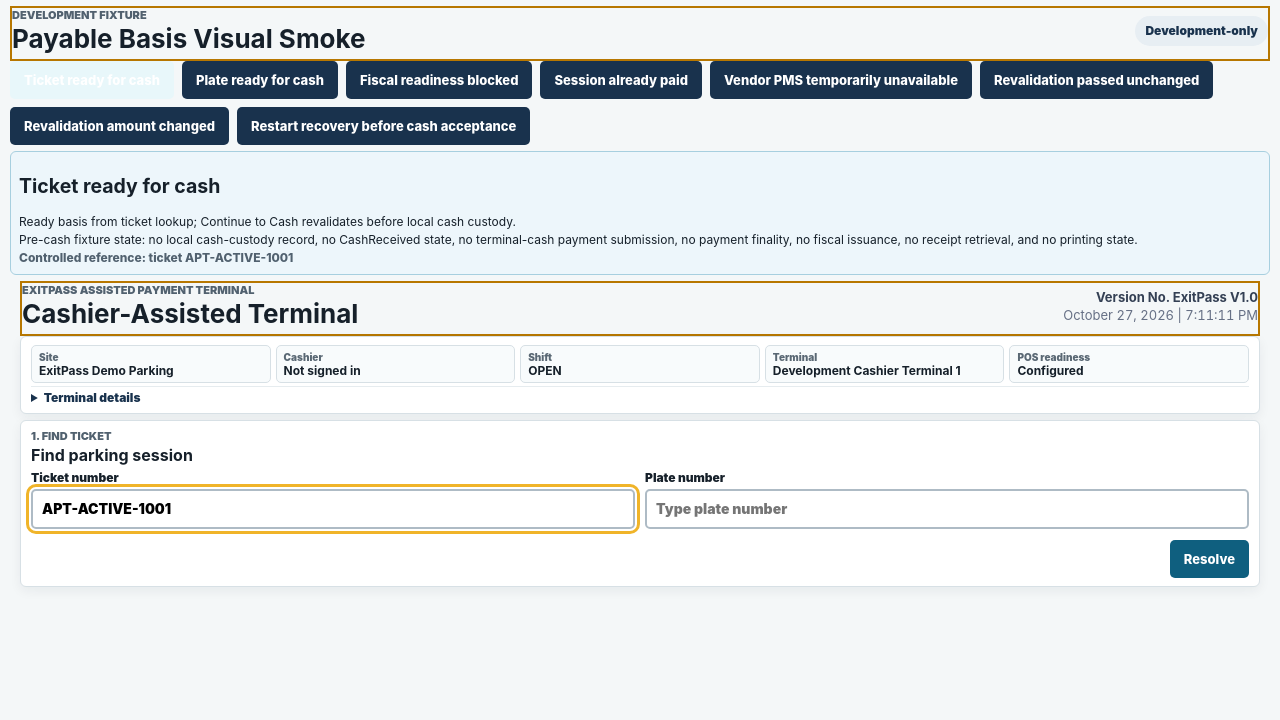
Test: PayableBasisVisualSmokeShell › keeps blocked readiness pre-cash and disables cash recording
Click the button "Fiscal readiness blocked".
click(439, 80)  # box [346,61,532,99]
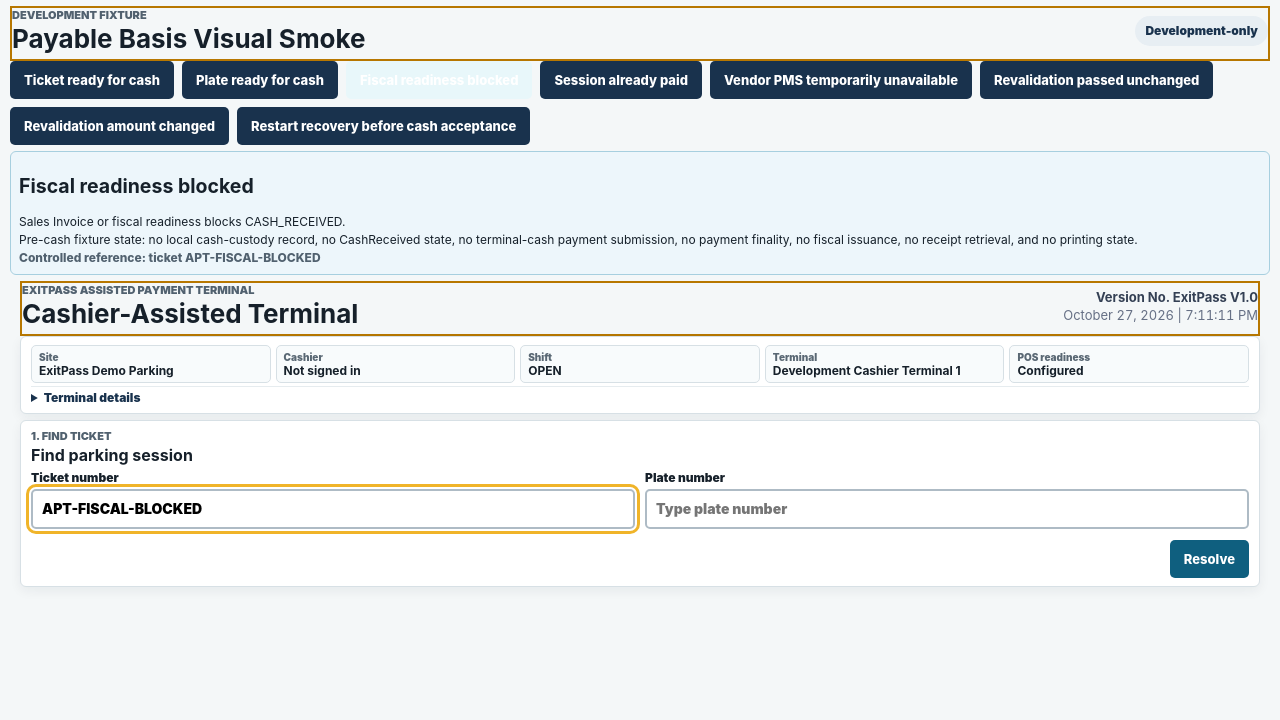
Click the button "Resolve".
click(1209, 559)  # box [1170,540,1249,578]
(page scrolled)
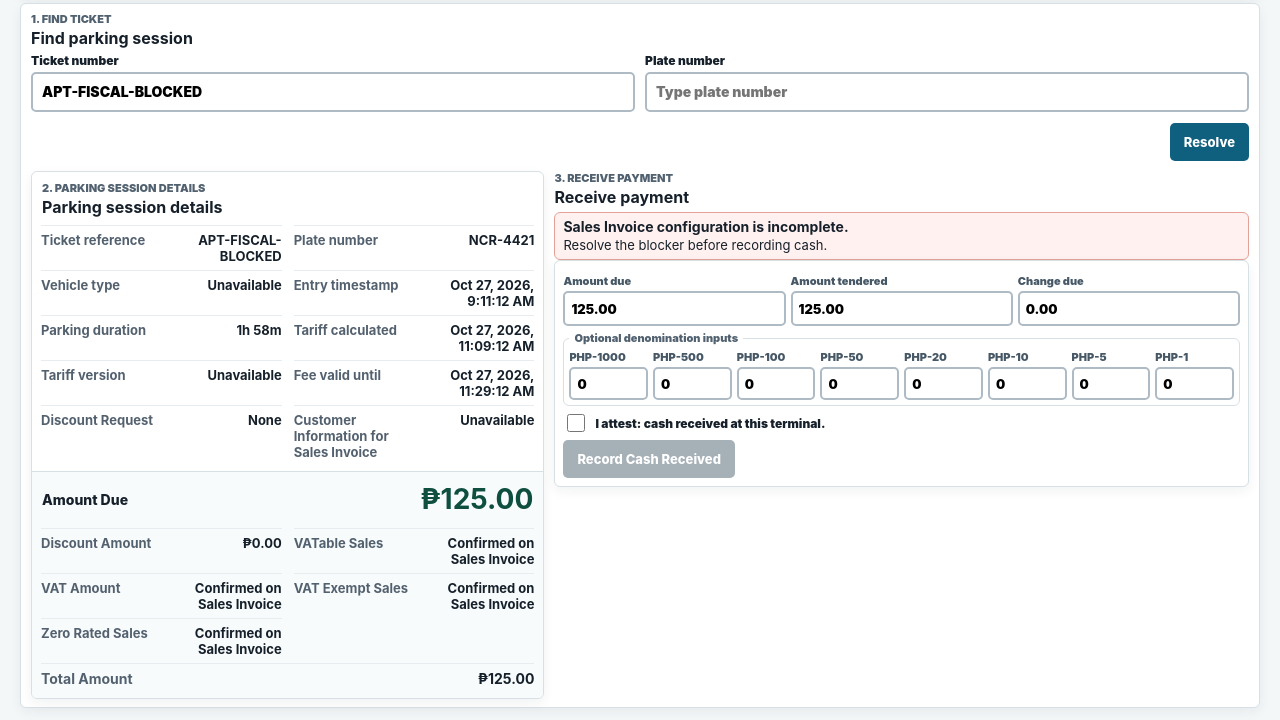
expect the heading "Parking session details" is shown: met, box [42,197,222,217]
expect the heading "Sales Invoice configuration is incomplete." is shown: met, box [563,218,849,235]
expect the button "Record Cash Received" is disabled: met, box [563,440,735,478]
